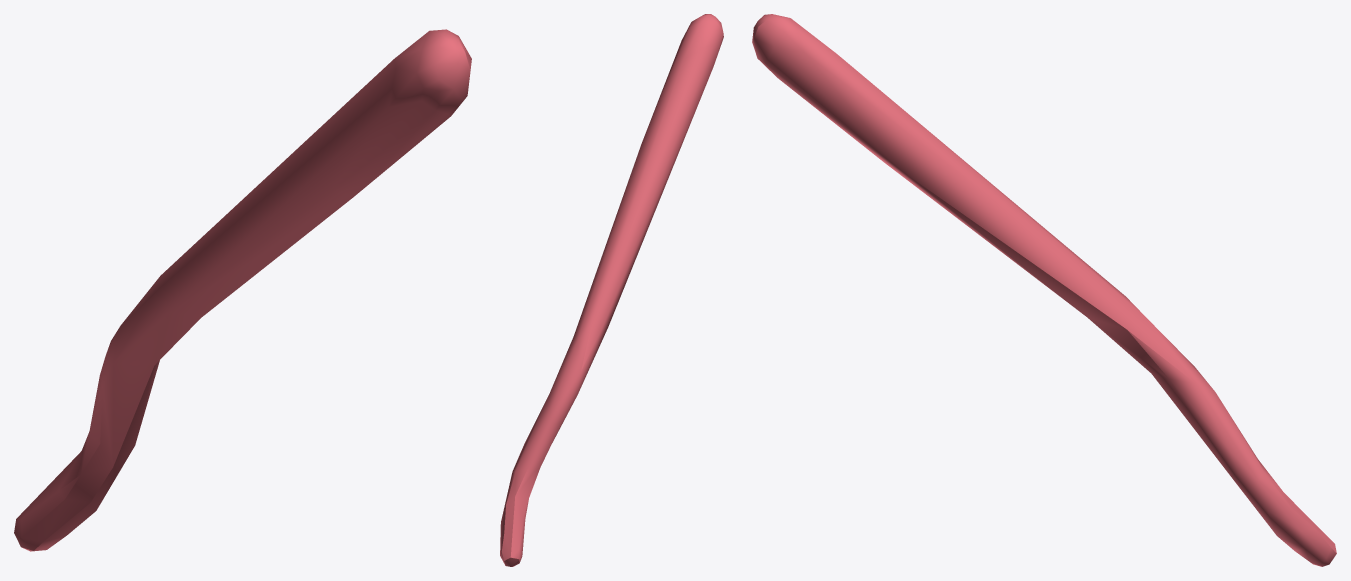
File: fma18888_fj3470.glb
3 views of the same model, side by side, from view 1: azimuth 30°, elevation 25°; view 2: azimuth 150°, elevation 25°; view 3: azimuth 270°, elevation 25° (orthographic). The views are drawn at different scales.
Visible parts, largest first — view 1: FMA18888_FJ3470; view 2: FMA18888_FJ3470; view 3: FMA18888_FJ3470.
Boxes of the visible parts, x1,y1,x2,y2 form: FMA18888_FJ3470: [14, 29, 471, 551]; FMA18888_FJ3470: [500, 14, 723, 566]; FMA18888_FJ3470: [752, 14, 1336, 566].
Size of the model in its own units: 0.00521 by 0.052 by 0.0498.
